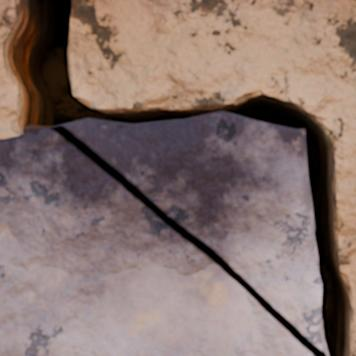brick: (0, 129, 312, 355)
crack: (2, 0, 353, 355)
